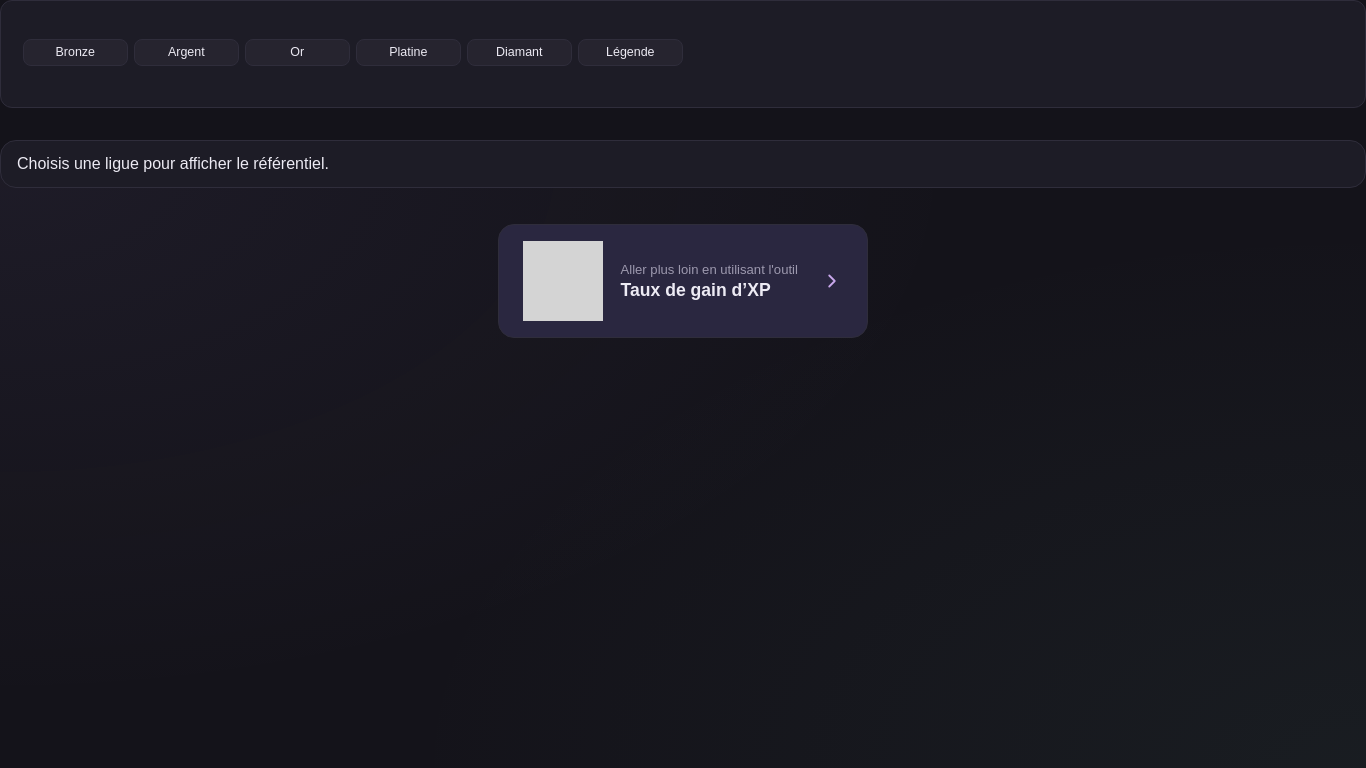
Test: LevelUpReference › renders the confirmed bronze table
Click the button "Bronze" at (75, 52), box [23, 39, 128, 66]
(page scrolled)
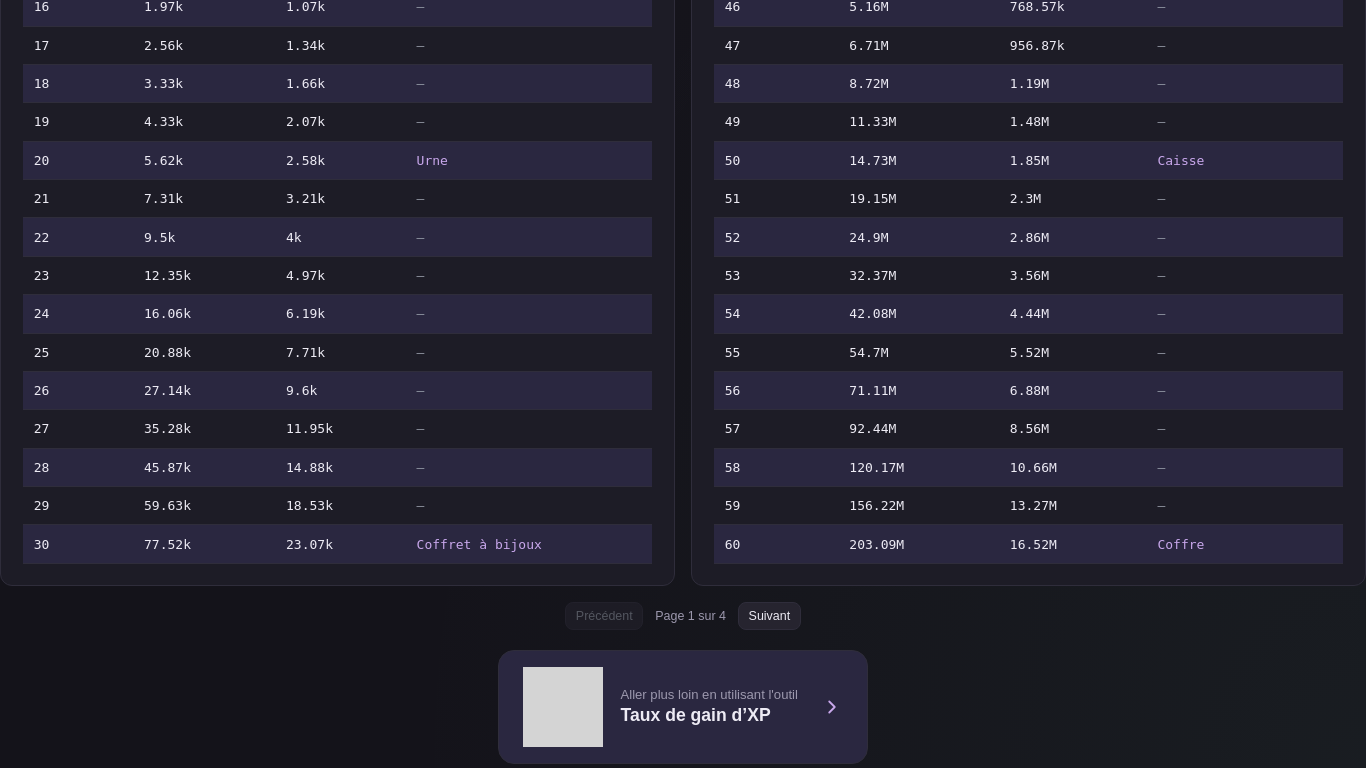
Check: the text "Coffret à bijoux" is shown, box [405, 525, 652, 563]
